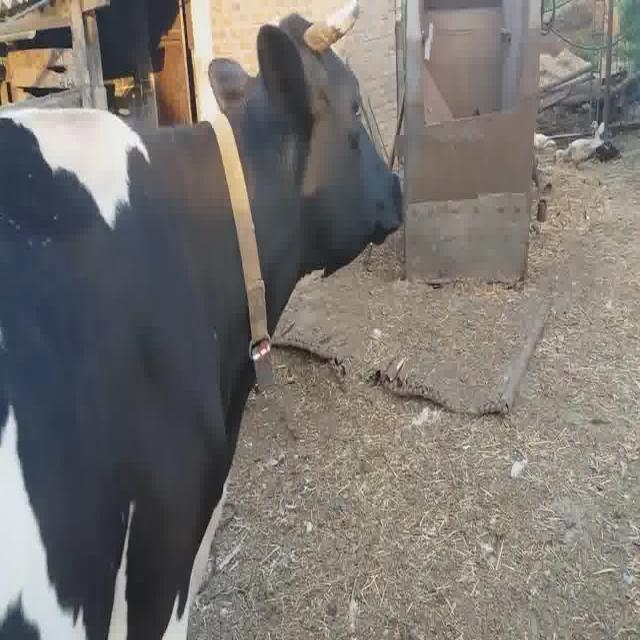cow: (0, 0, 401, 639)
